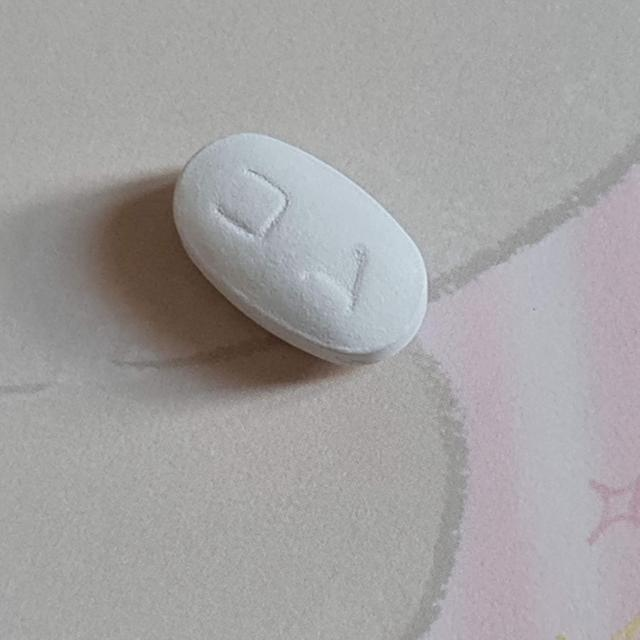pill: (173, 136, 424, 367)
